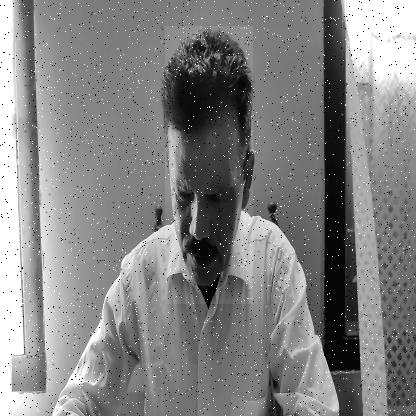Normal: (165, 26, 253, 304)
